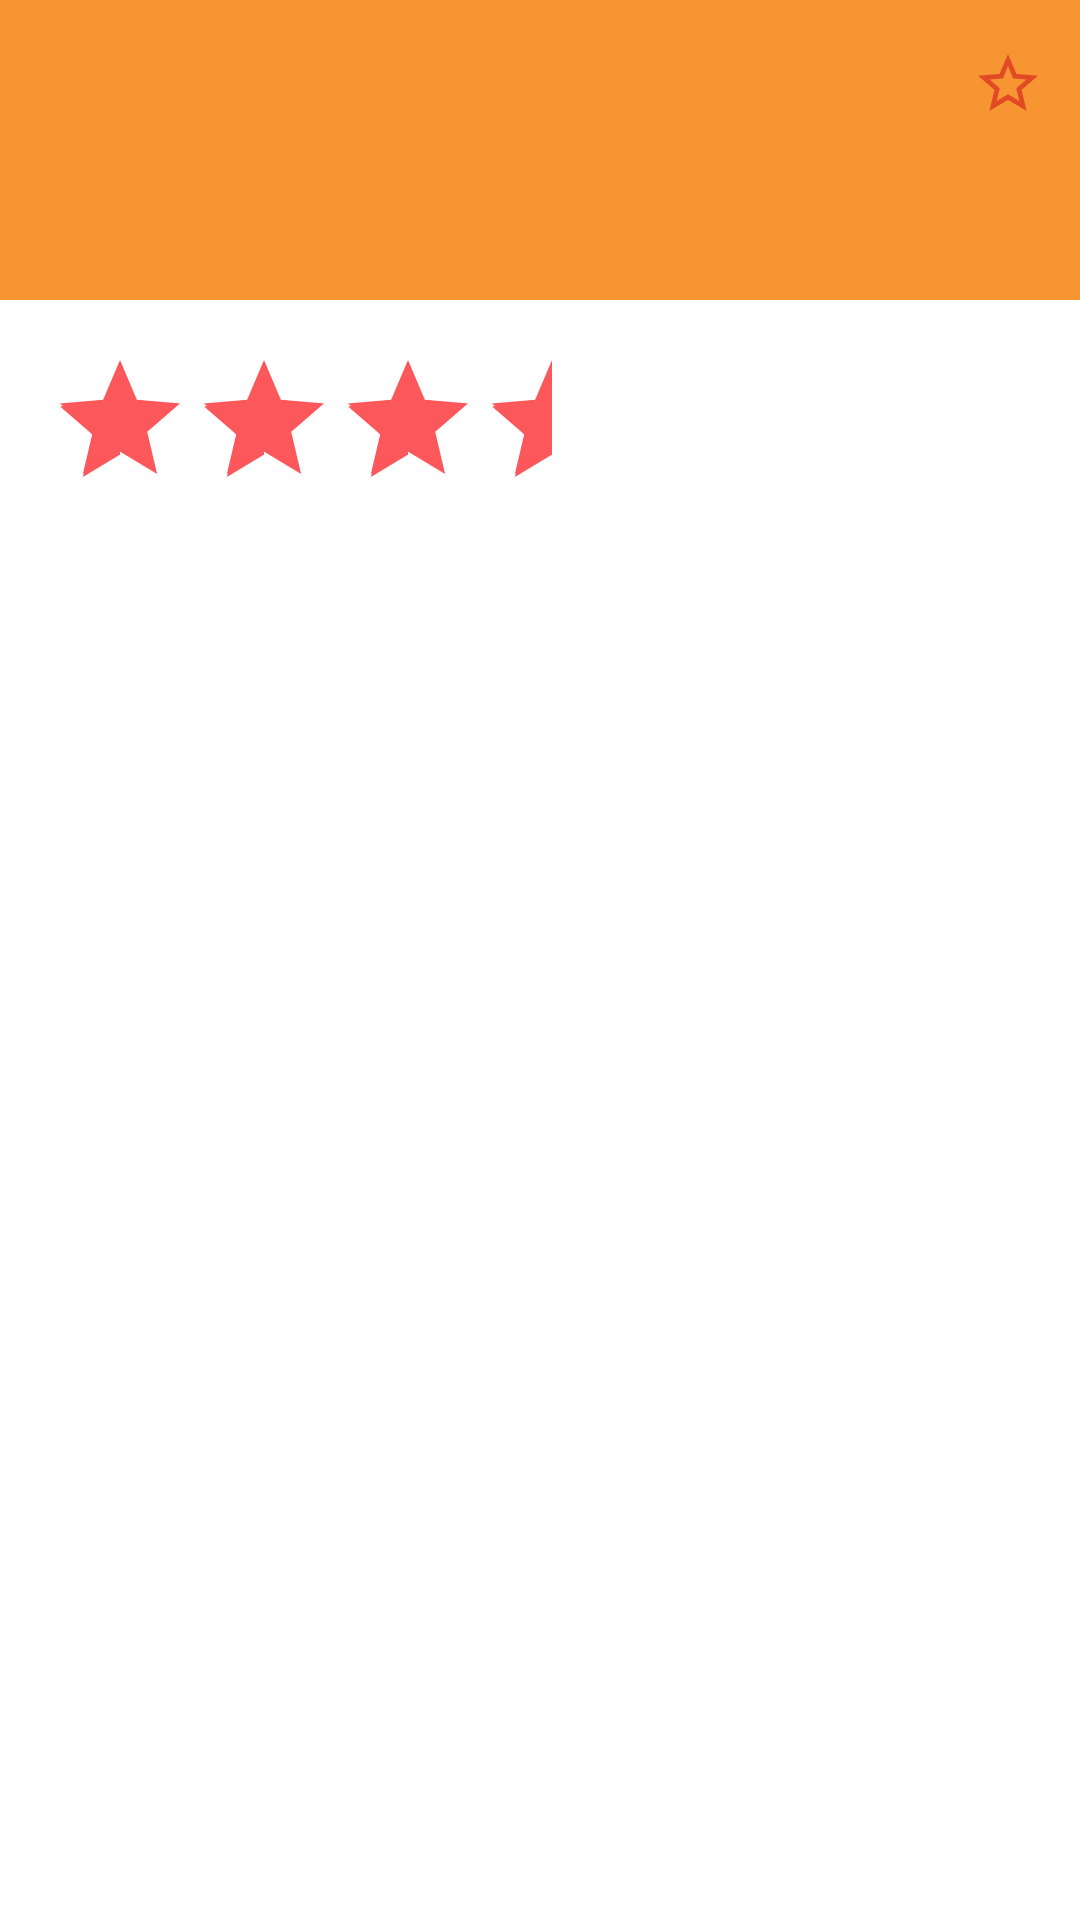

Icons on this 1080px×1920px Android screen, each with the point to tap as [x,y]:
favourite icon: [1008,83]
